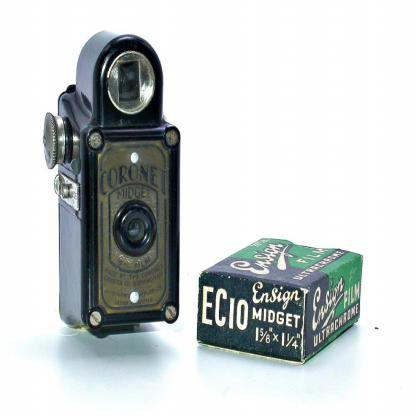Camera: (38, 35, 185, 351)
